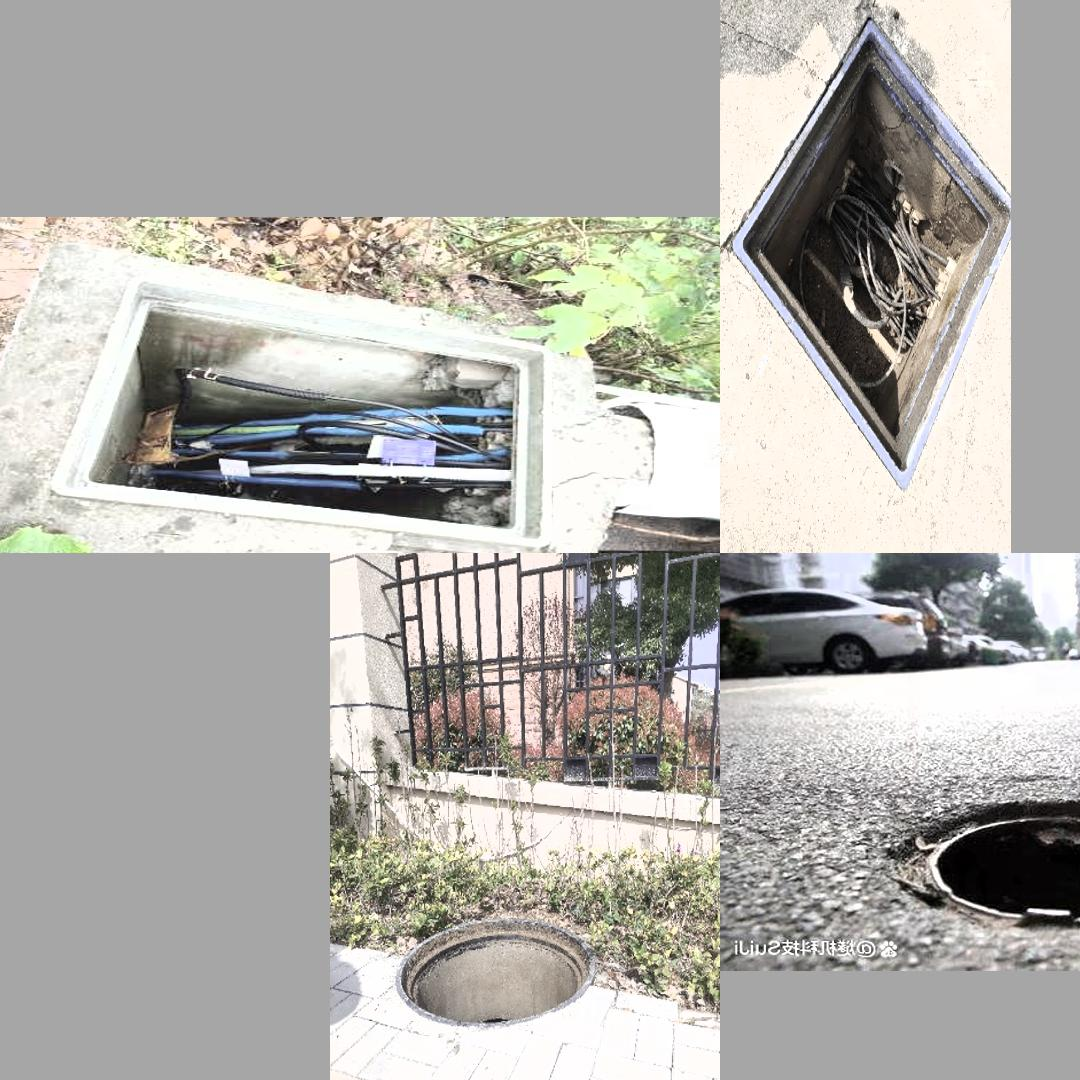lose: (50, 277, 552, 548), (731, 19, 1011, 491), (882, 790, 1080, 935), (395, 916, 592, 1027)
